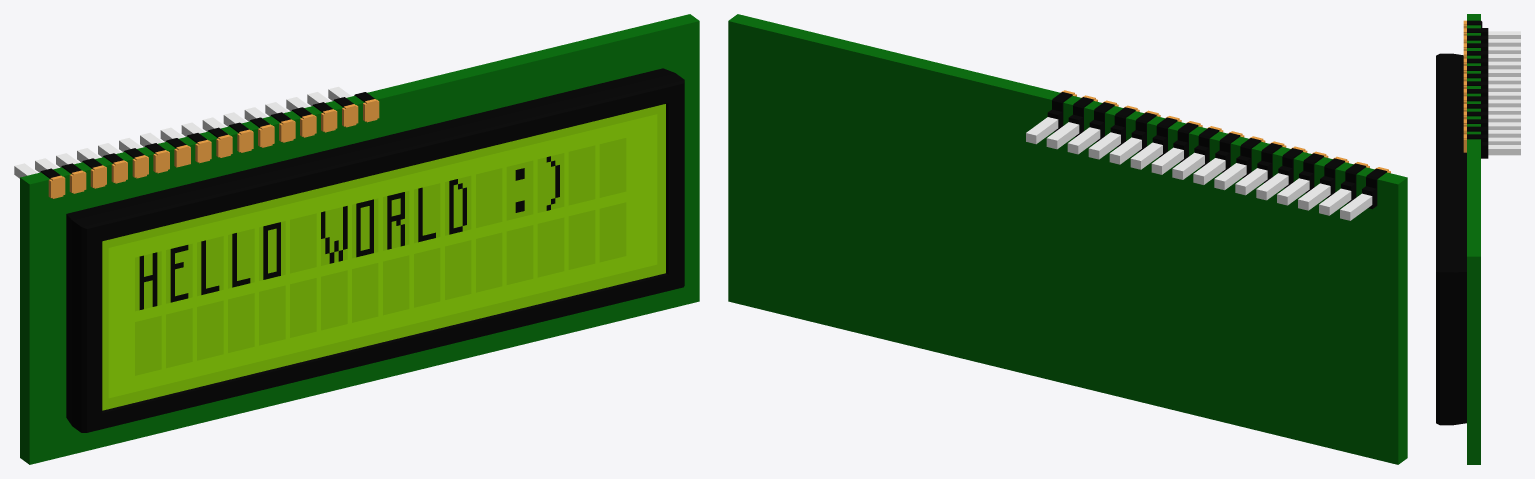
The model's file is LCD16x2.glb.
3 views of the same model, side by side, from view 1: azimuth 30°, elevation 25°; view 2: azimuth 150°, elevation 25°; view 3: azimuth 270°, elevation 25° (orthographic). The views are drawn at different scales.
Visible parts, largest first — view 1: LCD 16 x 2; view 2: LCD 16 x 2; view 3: LCD 16 x 2.
Part boxes in pixels (<box>): LCD 16 x 2: <box>14,14,699,464</box>; LCD 16 x 2: <box>728,14,1407,464</box>; LCD 16 x 2: <box>1436,14,1520,464</box>.
Bounding box in the file's own units: 1.41 × 0.5674 × 0.2088.
